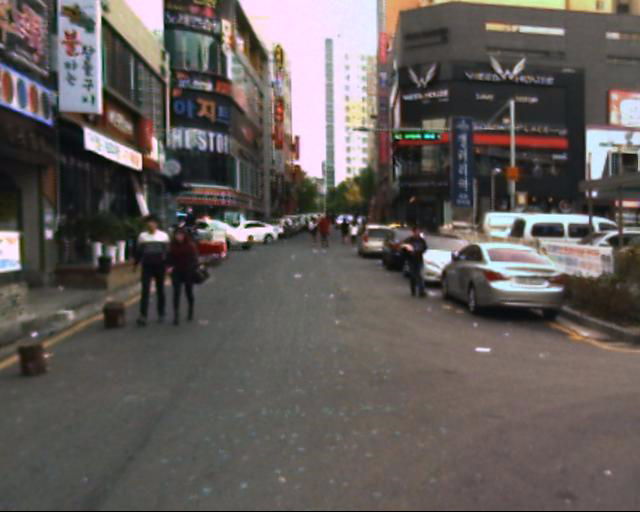person: (121, 196, 173, 342), (160, 206, 210, 347), (400, 215, 434, 306), (338, 207, 365, 257), (316, 204, 340, 253), (305, 202, 325, 259)
